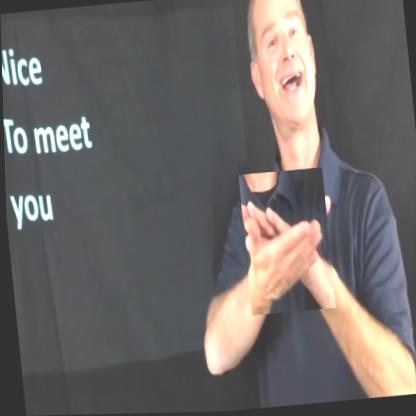NiceToMeetYou: (237, 168, 334, 317)
